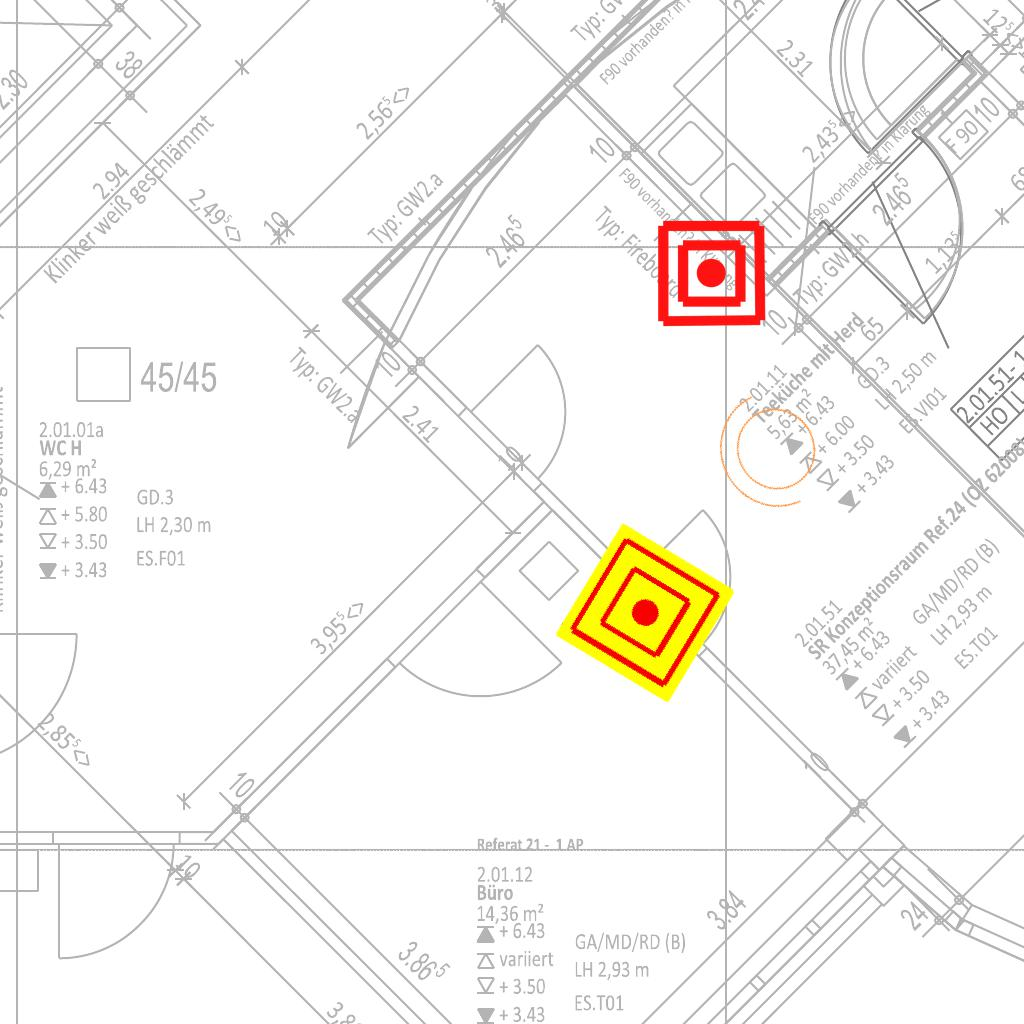NAM-Nichtautomatischer_Melder: (554, 522, 736, 704), (655, 217, 768, 330)
Scheinwerfer_fuer_Alarmbeleuchtung: (694, 370, 852, 538)
